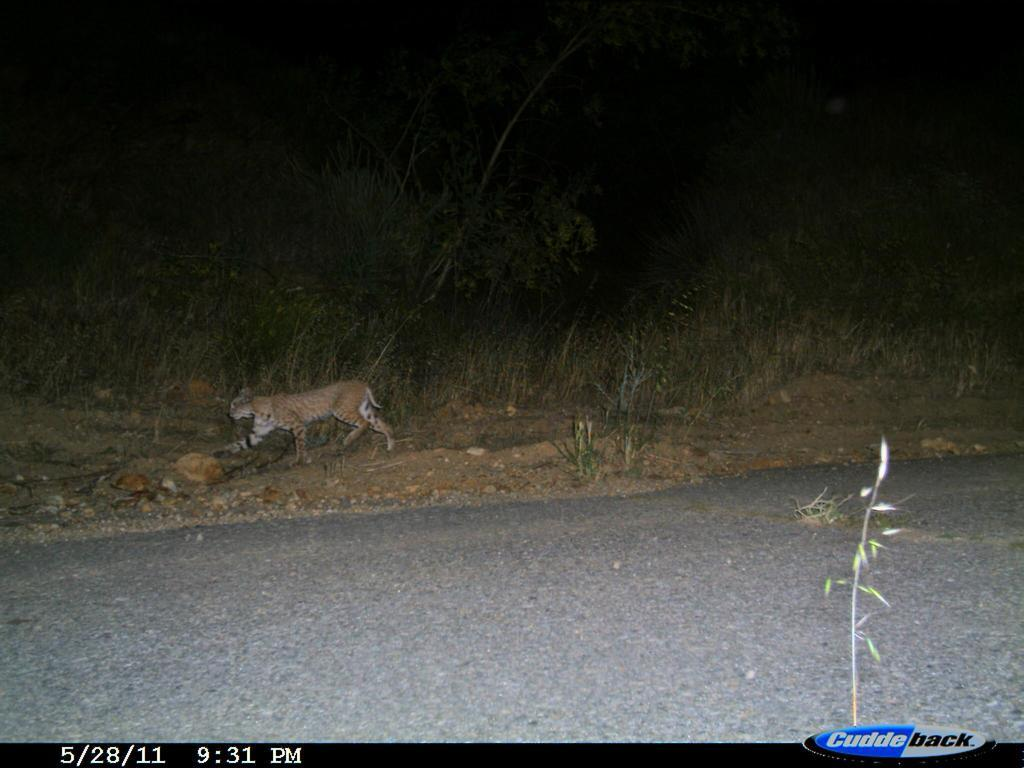bobcat: (213, 376, 408, 473)
